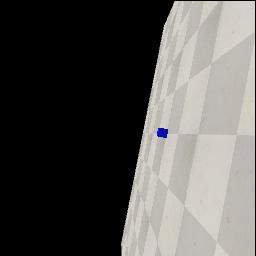box: (157, 128, 168, 138)
